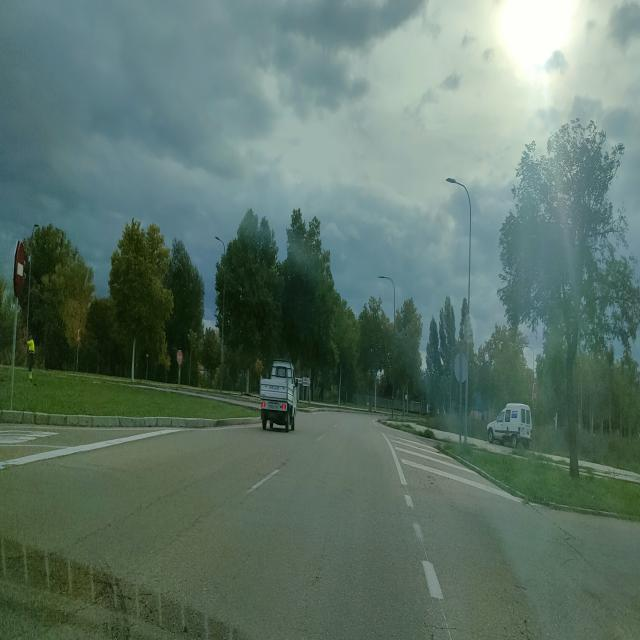Poth-hole: (56, 576, 217, 640)
